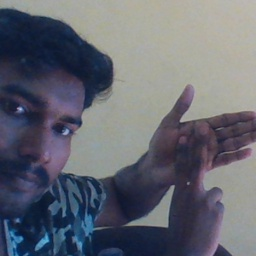N: (140, 81, 256, 224)
